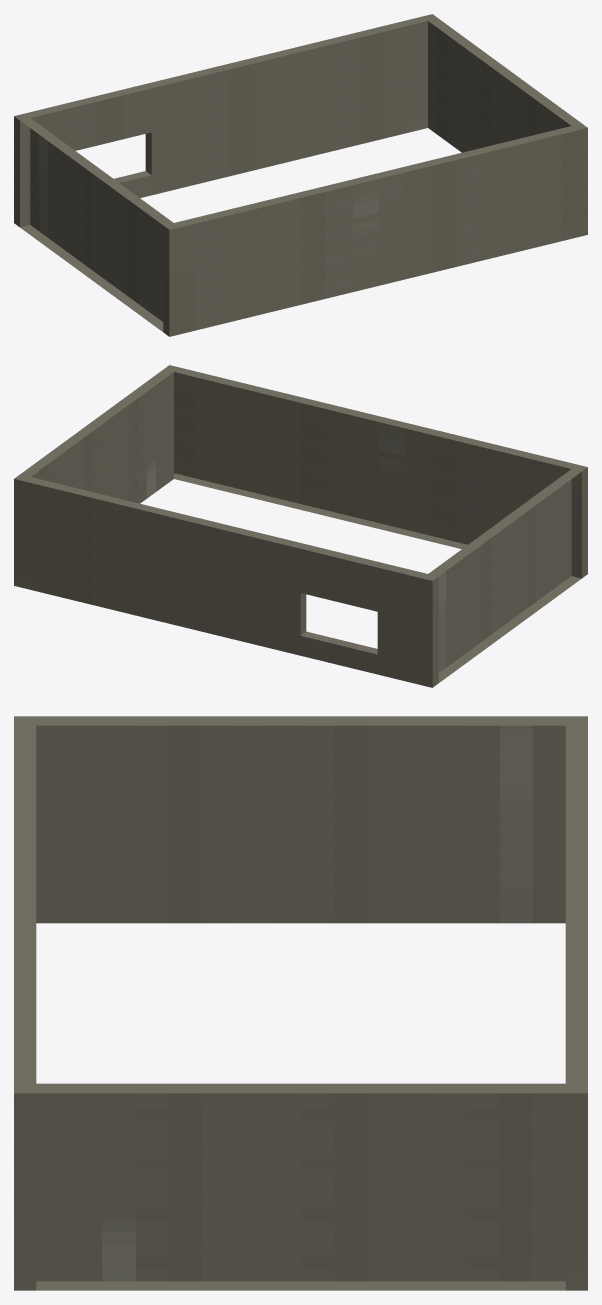
The model's file is walls.glb.
3 views of the same model, one above another, from view 1: azimuth 30°, elevation 25°; view 2: azimuth 150°, elevation 25°; view 3: azimuth 270°, elevation 25° (orthographic). The views are drawn at different scales.
Parts seen in each view (by area): view 1: Walls; view 2: Walls; view 3: Walls.
Part boxes in pixels (x1,y1,x2,y2): Walls: [14, 14, 587, 336]; Walls: [14, 365, 587, 687]; Walls: [14, 716, 587, 1290].
Size of the model in its own units: 1.2 by 0.2938 by 0.774.
Materials: 1 (1 with a texture image).
